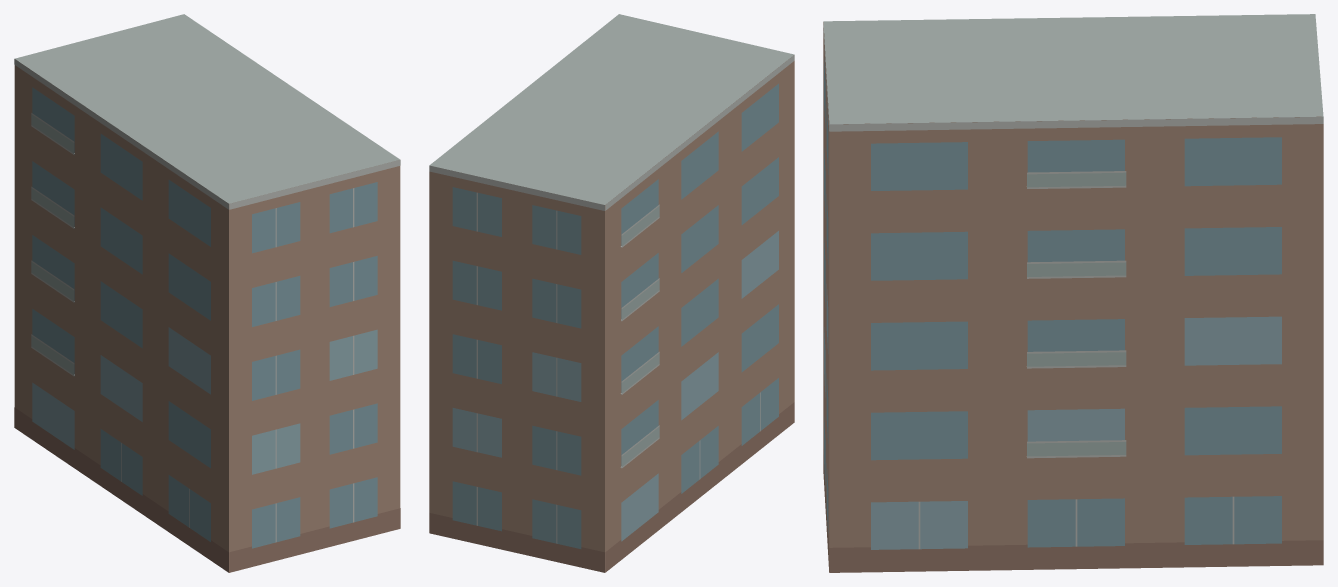
File: survey-upis-32879146.glb
3 views of the same model, side by side, from view 1: azimuth 30°, elevation 25°; view 2: azimuth 150°, elevation 25°; view 3: azimuth 270°, elevation 25° (orthographic). The views are drawn at different scales.
Parts seen in each view (by area): view 1: survey-upis-32879146.tmp; view 2: survey-upis-32879146.tmp; view 3: survey-upis-32879146.tmp.
Part boxes in pixels (x1,y1,x2,y2): survey-upis-32879146.tmp: (14, 14, 400, 572); survey-upis-32879146.tmp: (429, 14, 794, 572); survey-upis-32879146.tmp: (823, 14, 1323, 572).
Size of the model in its own units: 7.87 by 14.9 by 15.07.
